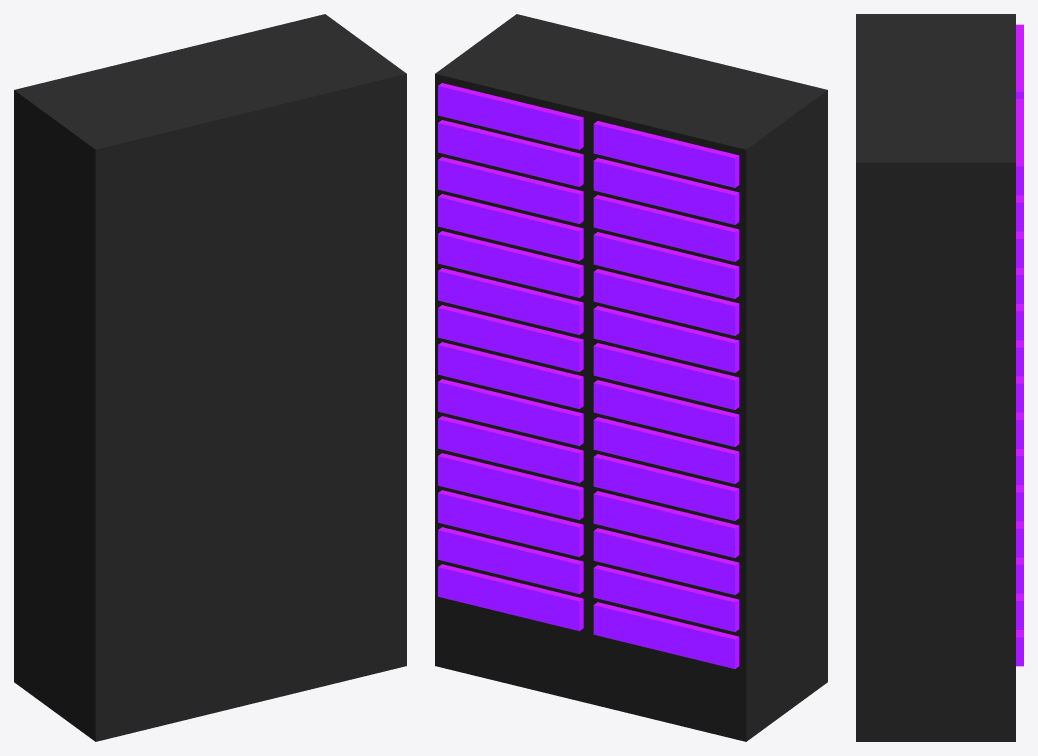
File: building3.fbx
3 views of the same model, side by side, from view 1: azimuth 30°, elevation 25°; view 2: azimuth 150°, elevation 25°; view 3: azimuth 270°, elevation 25° (orthographic). The views are drawn at different scales.
Parts seen in each view (by area): view 1: Cube; view 2: Cube_29, Cube; view 3: Cube, Cube_29.
Part boxes in pixels (x1,y1,x2,y2): Cube: [14, 14, 406, 741]; Cube_29: [438, 83, 739, 668]; Cube: [435, 14, 827, 741]; Cube: [856, 14, 1015, 741]; Cube_29: [1016, 24, 1023, 666].
Size of the model in its own units: 440 by 800 by 210.
